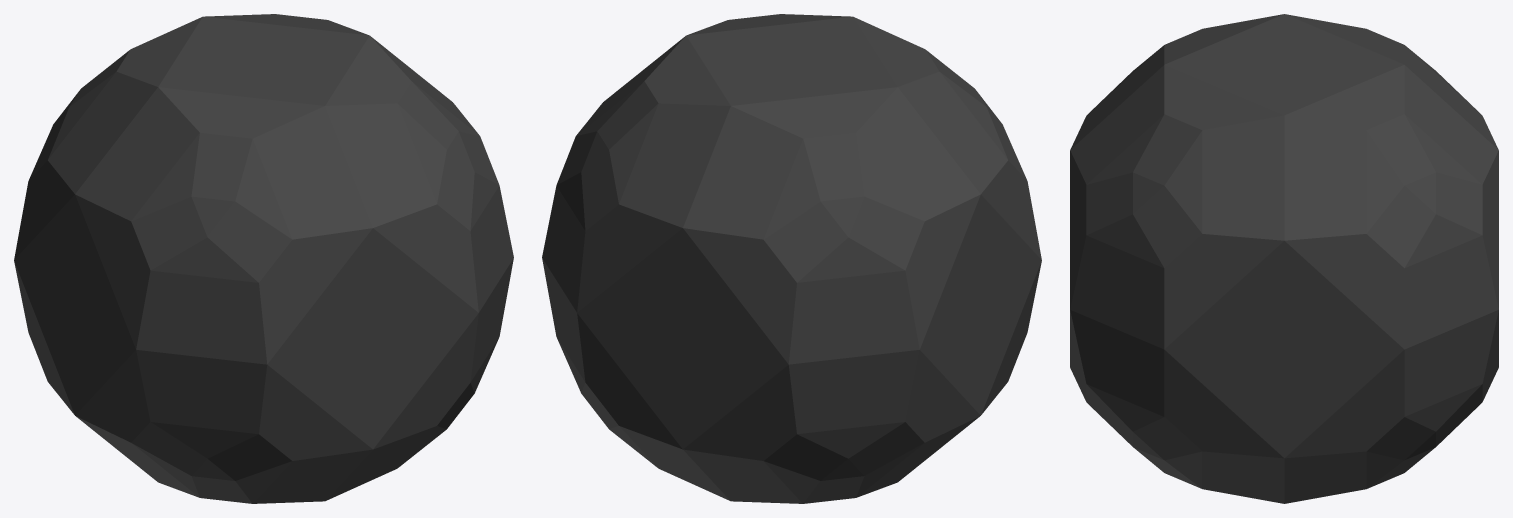
The model's file is wire_base.obj.
The picture shows the model from 3 angles, left to right: view 1: azimuth 30°, elevation 25°; view 2: azimuth 150°, elevation 25°; view 3: azimuth 270°, elevation 25°; orthographic projection.
Parts seen in each view (by area): view 1: Cylinder.003_Cylinder.005; view 2: Cylinder.003_Cylinder.005; view 3: Cylinder.003_Cylinder.005.
Part boxes in pixels (box(x1,y1,x2,y2)): Cylinder.003_Cylinder.005: box(14, 14, 513, 503); Cylinder.003_Cylinder.005: box(542, 14, 1041, 503); Cylinder.003_Cylinder.005: box(1070, 14, 1498, 503).
Size of the model in its own units: 0.2 by 0.2 by 0.2.
